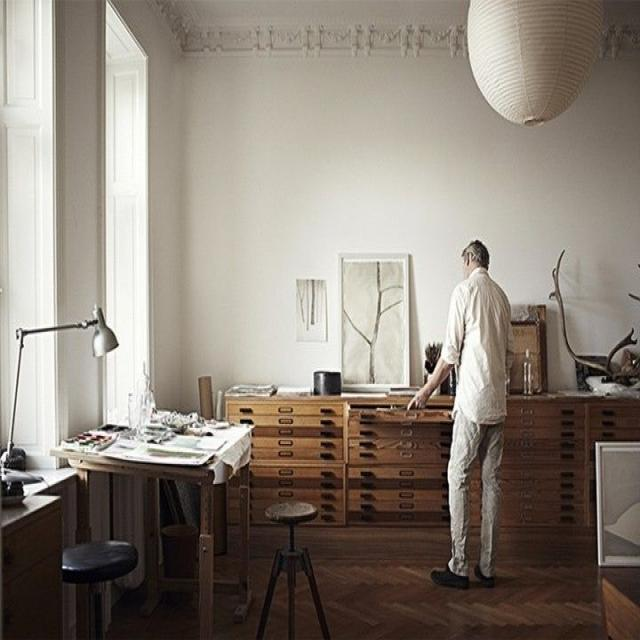obstacle: (50, 412, 255, 637)
person: (406, 239, 516, 589)
